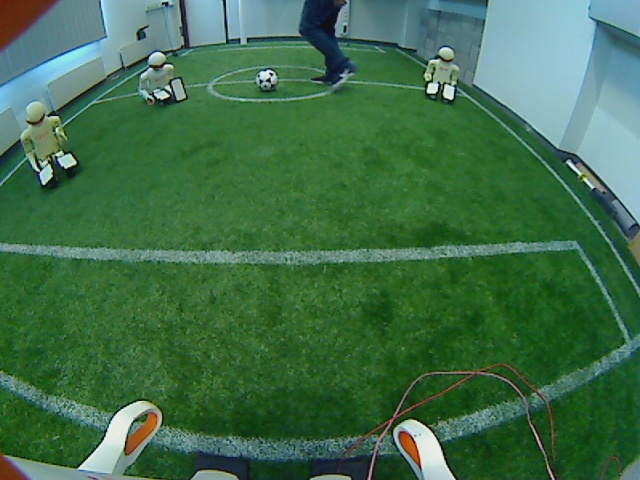ball: (255, 66, 280, 95)
robot: (17, 98, 81, 191), (137, 51, 190, 114), (423, 45, 467, 104)
